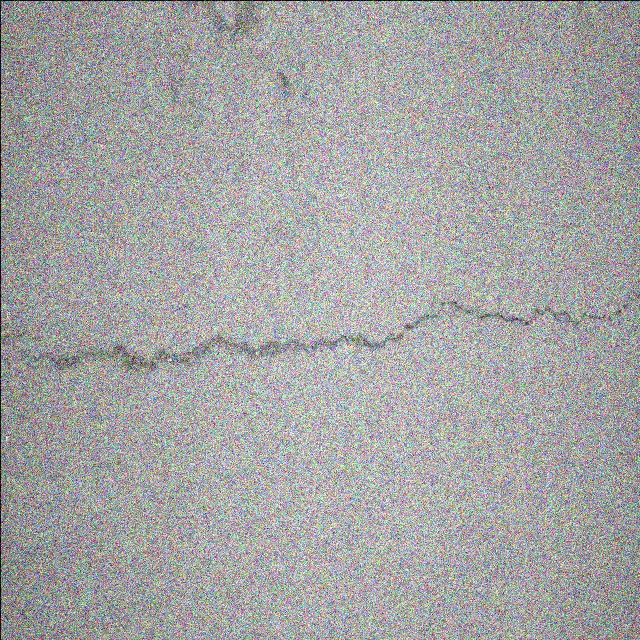SurfaceCrack: (0, 226, 639, 414)
